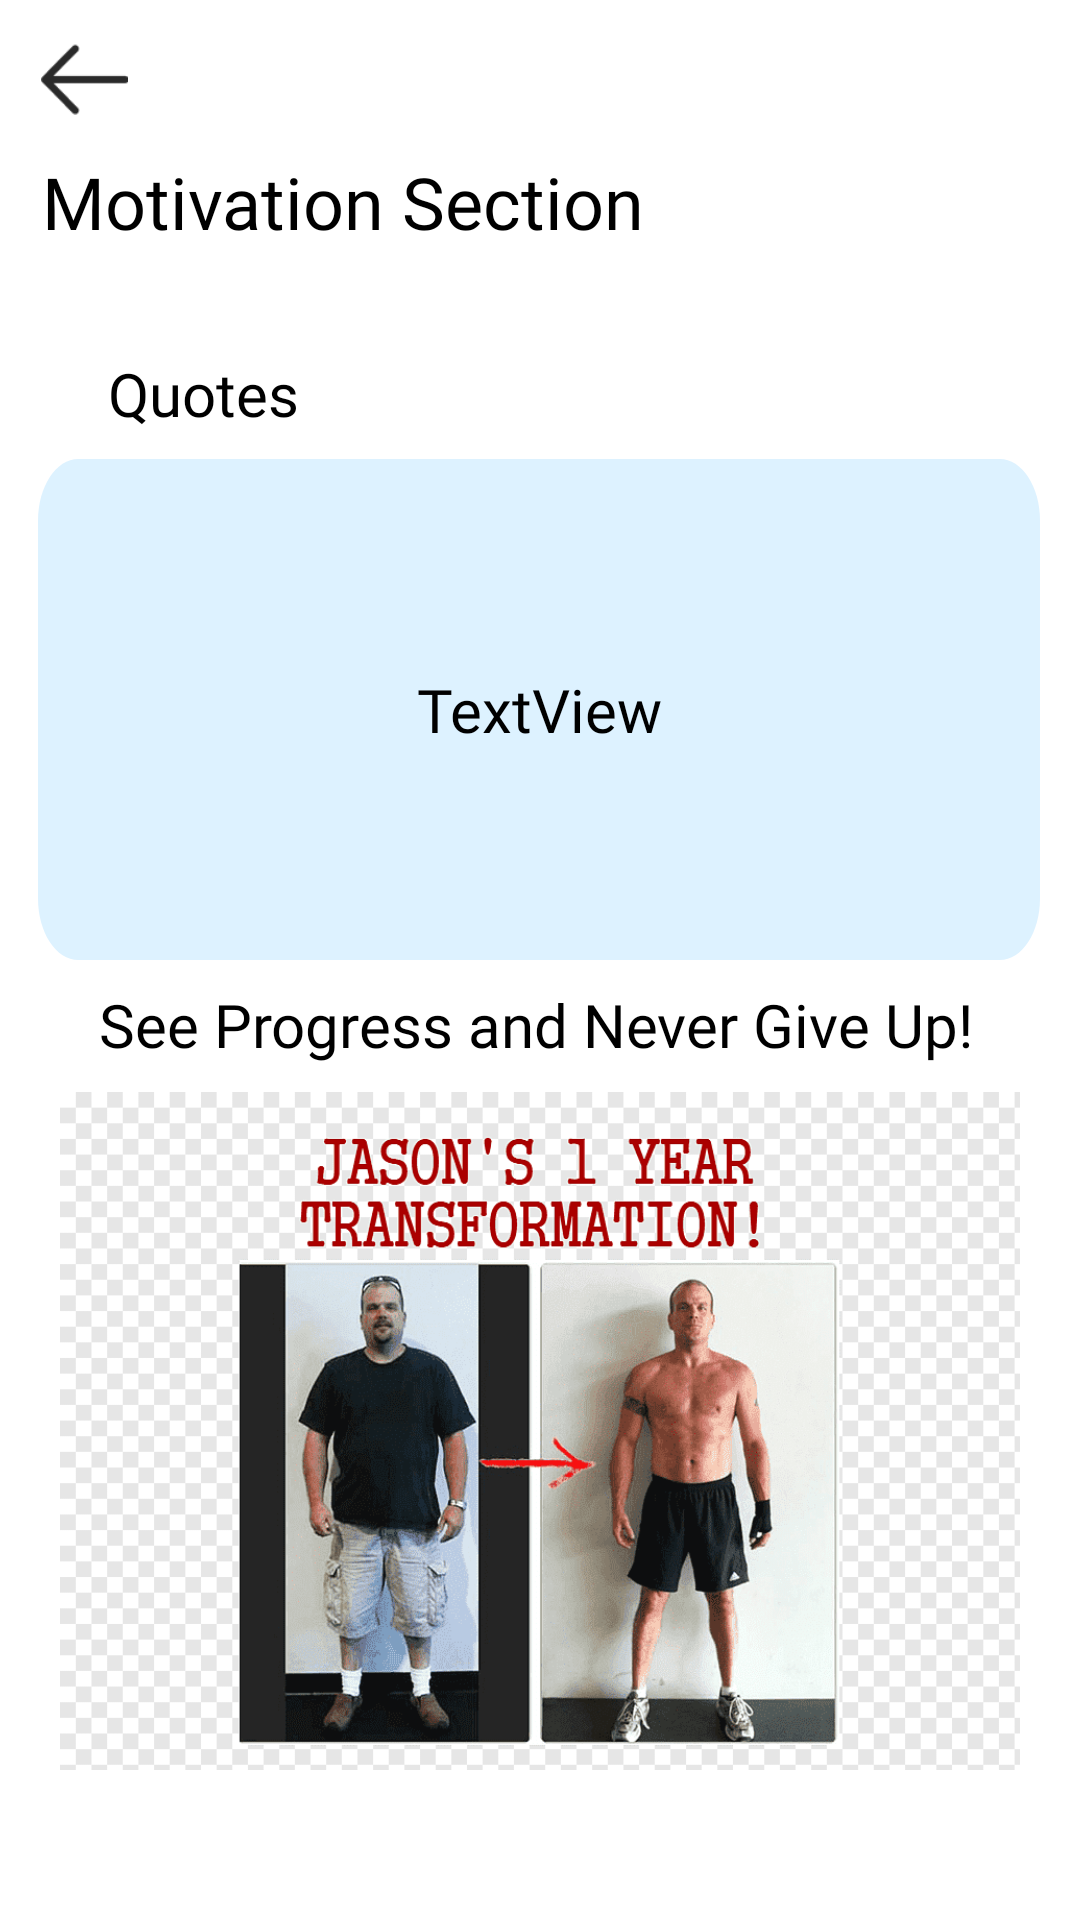

Icons on this 1080 × 1920 Android screen, each with the point to tap as (x=x, y=y):
arrow: (x=84, y=79)
